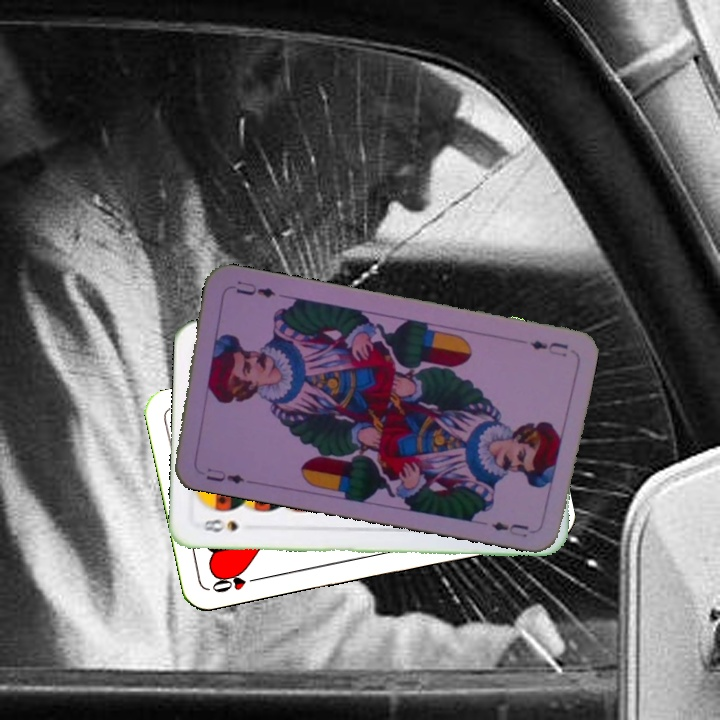EU: (525, 336, 571, 360), (202, 464, 247, 487)
HO: (207, 571, 265, 596)
S8: (198, 515, 240, 535)
